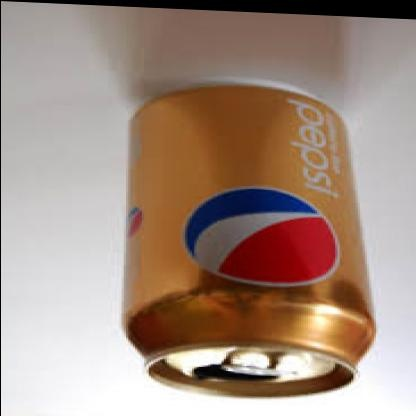trash: (125, 85, 374, 395)
